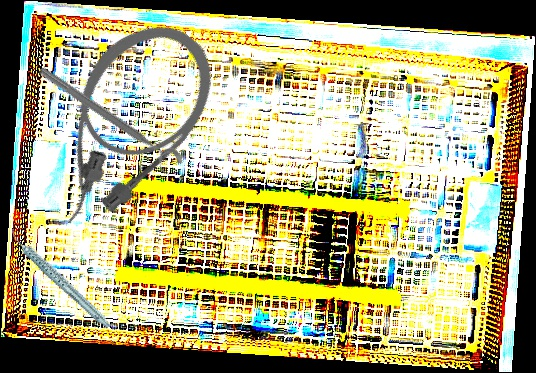Cannula: (8, 1, 237, 248)
Fixation Ring: (29, 61, 187, 181)
Handpiece: (8, 211, 113, 345)
